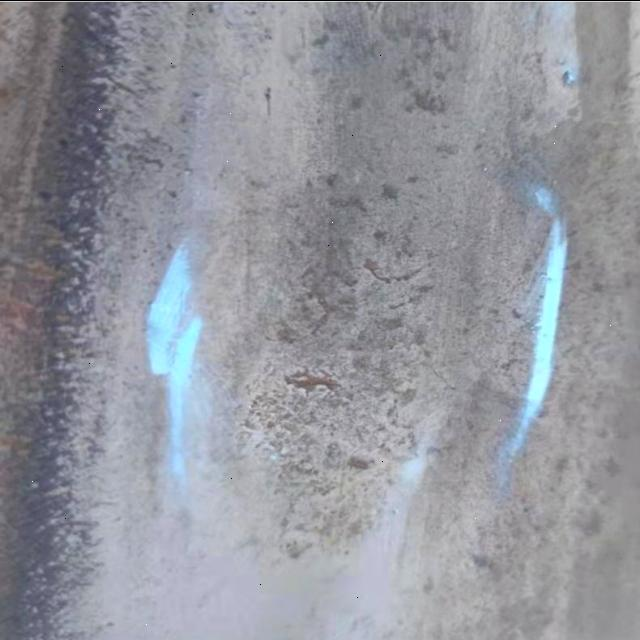geshang: (238, 174, 432, 534)
